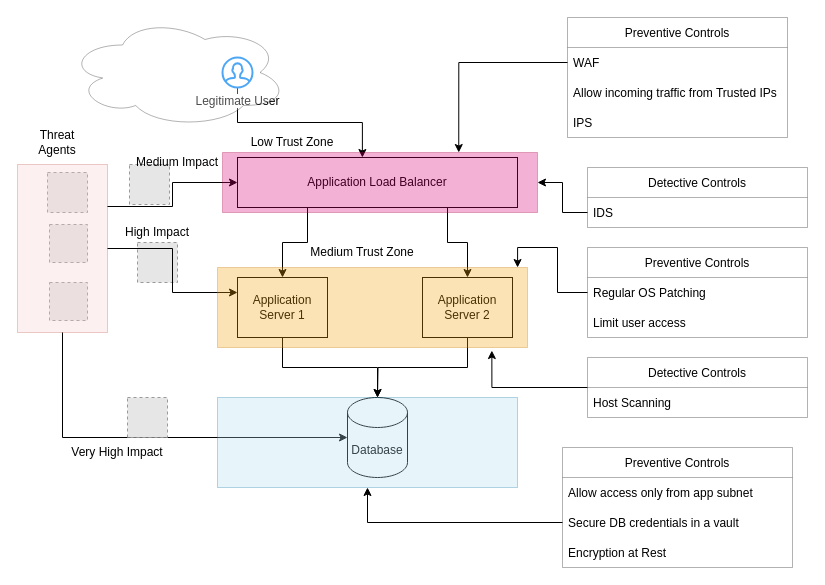
Some shapes in this 825 by 585 pixel diagram are drawn without their labels. Grey dashed boxes stand in for pictures. The box of each missing label's shape, as (x1, y1, x2, y2) in pixels:
High Trust Zone: (216, 396, 518, 488)
No Trust Zone: (66, 16, 288, 128)
